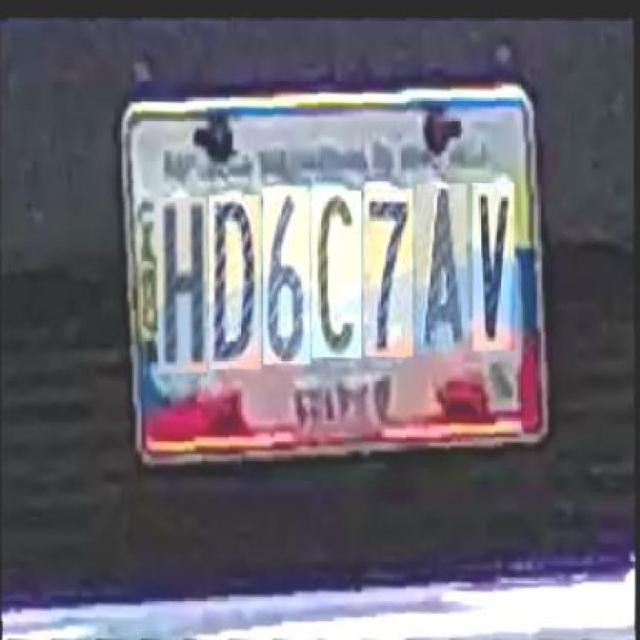6: (261, 181, 308, 354)
7: (362, 180, 411, 348)
a: (414, 177, 466, 348)
c: (309, 180, 360, 349)
d: (206, 182, 259, 358)
h: (156, 183, 207, 360)
v: (472, 177, 513, 345)
